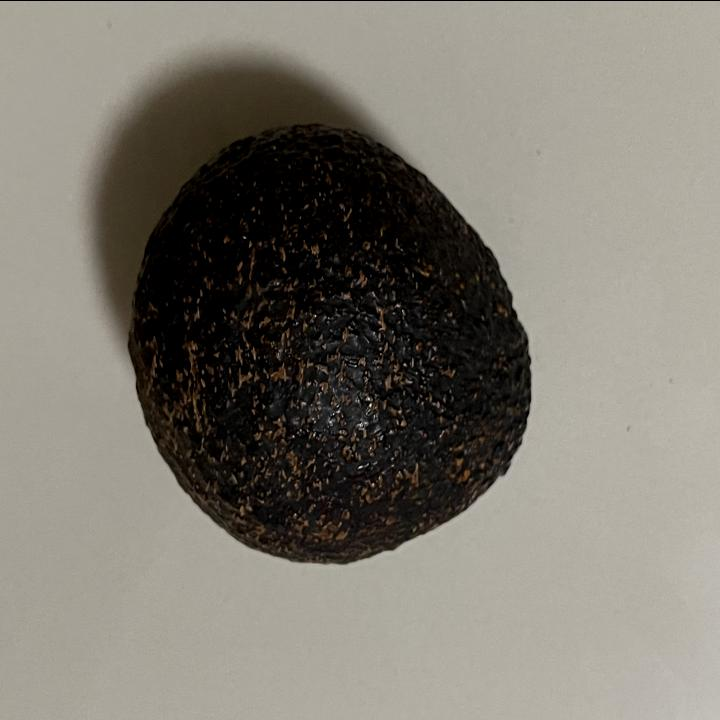Level3: (119, 109, 544, 576)
